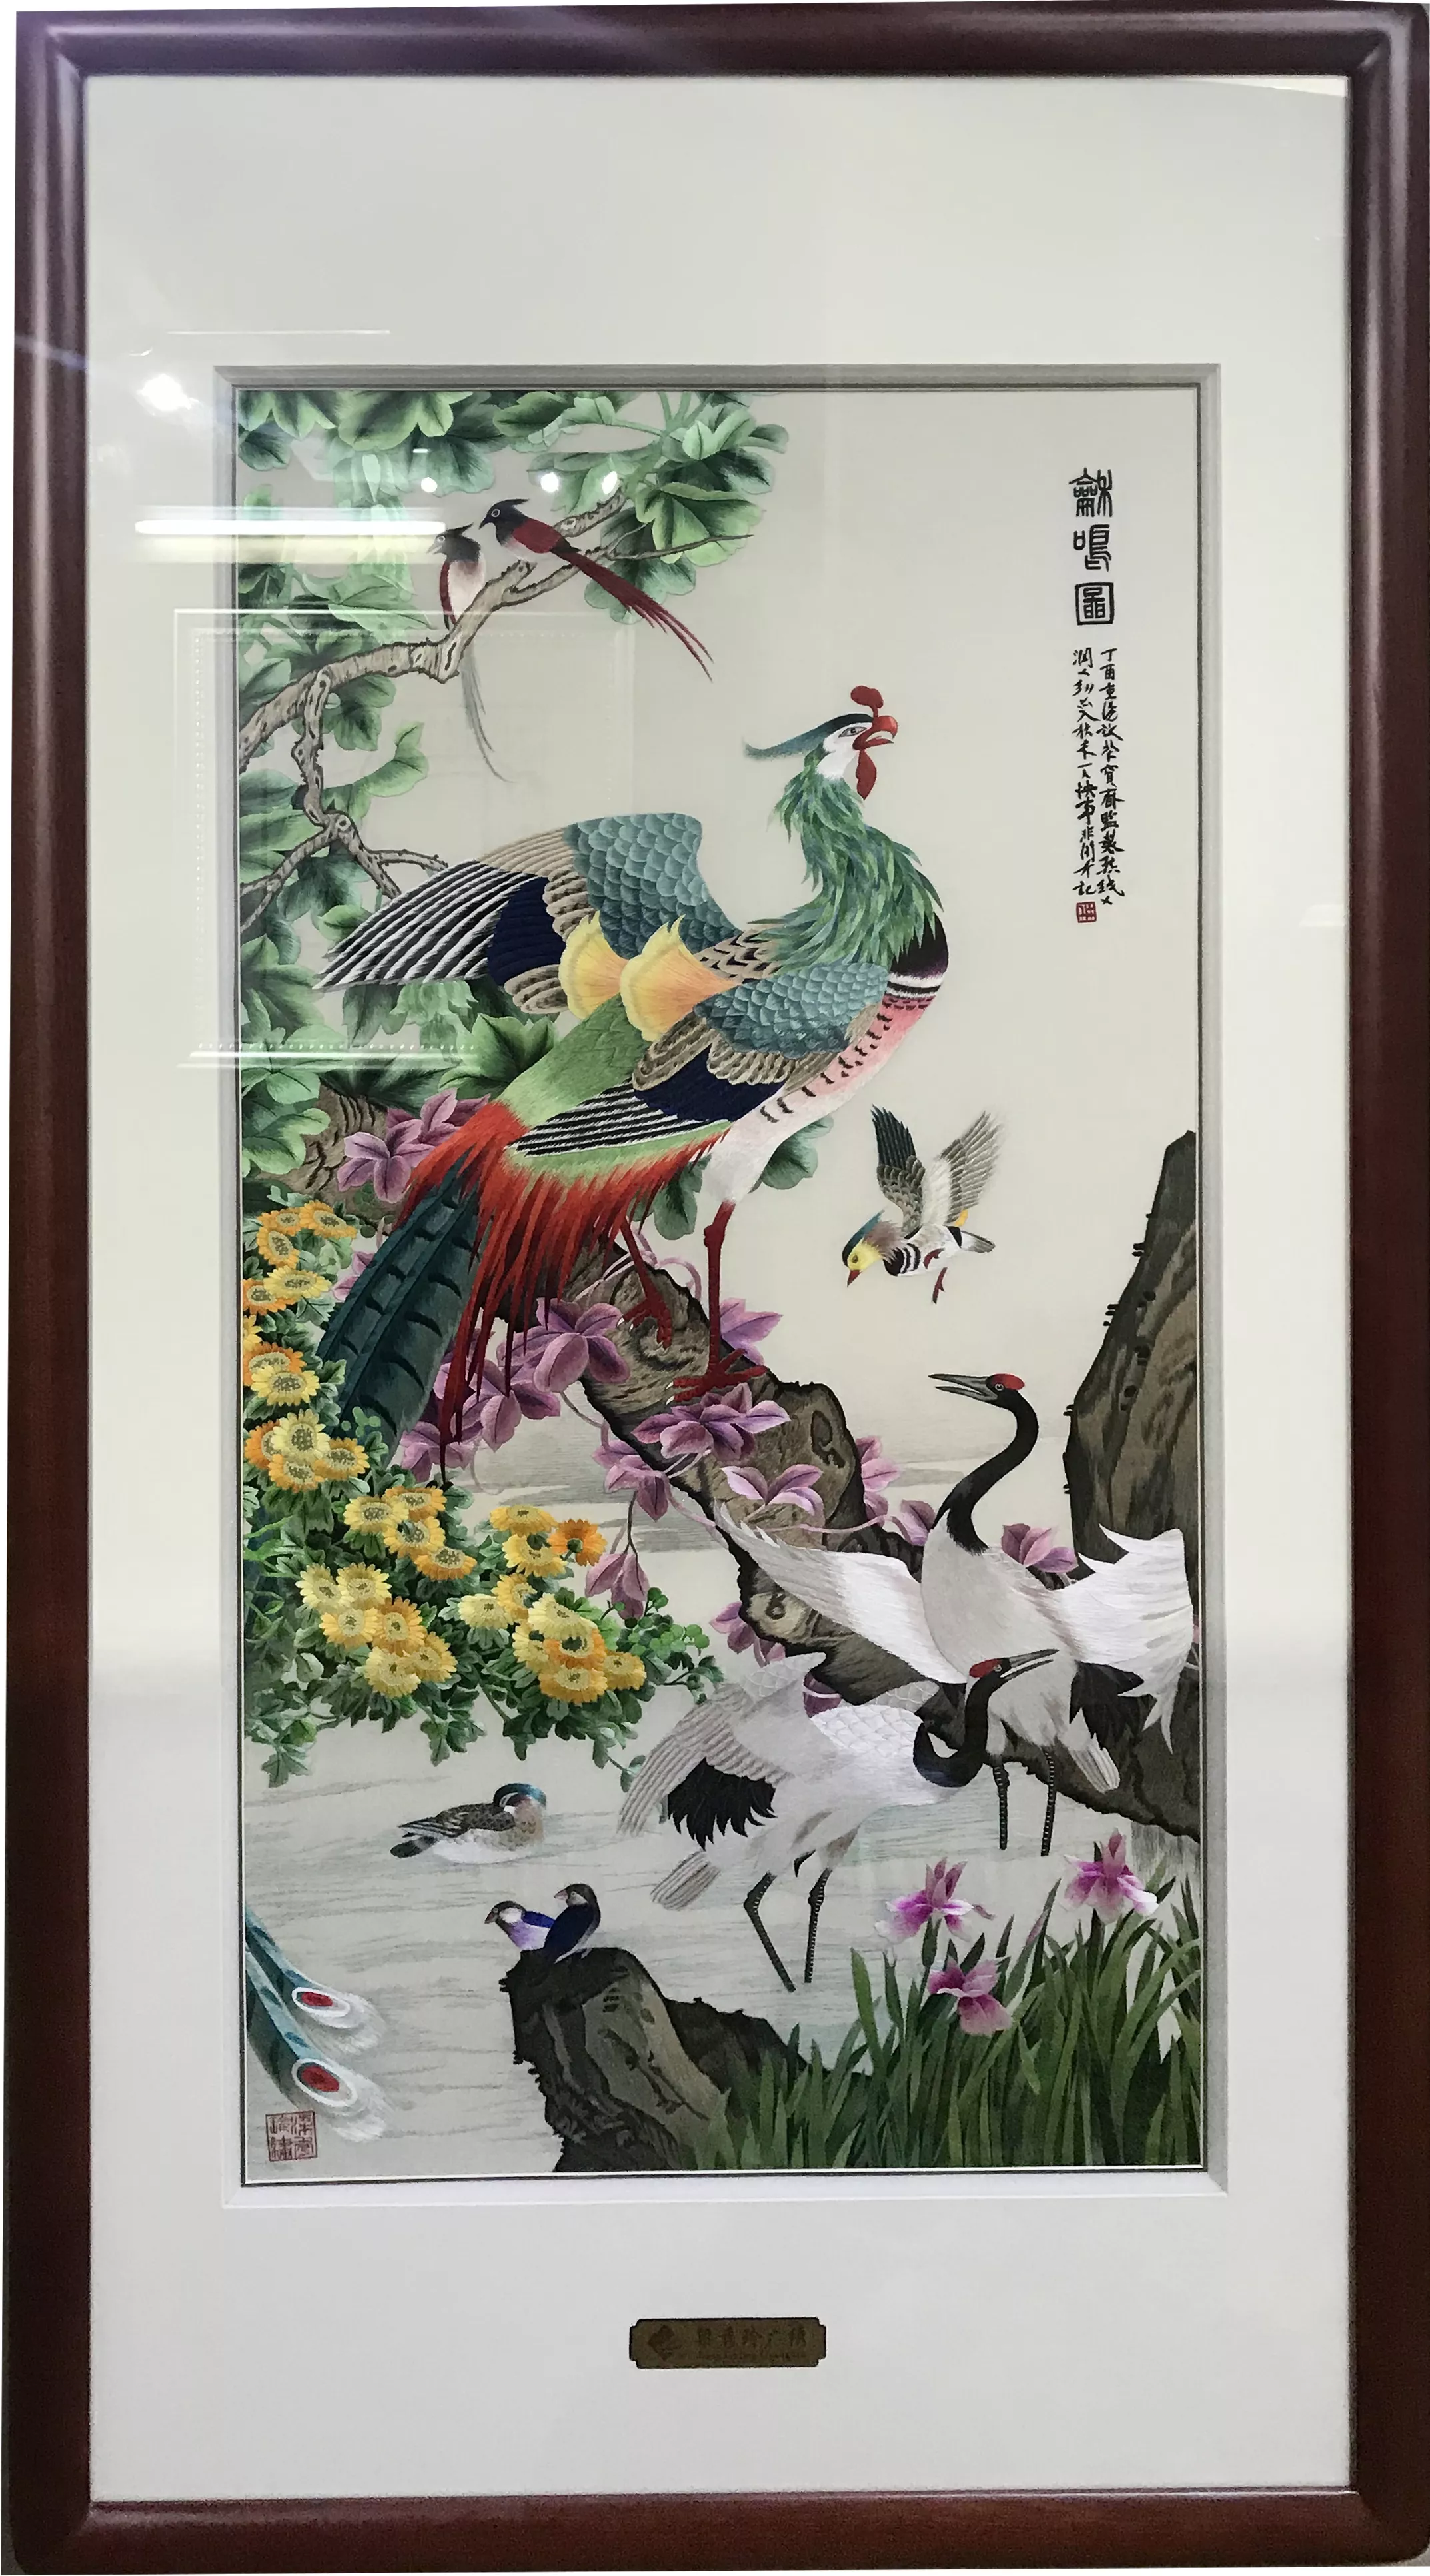bird: (477, 498, 728, 680), (832, 1098, 1008, 1303), (426, 521, 518, 784), (473, 1880, 608, 1982)
crane: (717, 1365, 1196, 1863), (620, 1640, 1057, 1994)
flower: (299, 1560, 456, 1694)
lotus: (1057, 1826, 1157, 1920)
mandarin duck: (381, 1782, 556, 1862)
phoenix: (287, 672, 956, 1477)
